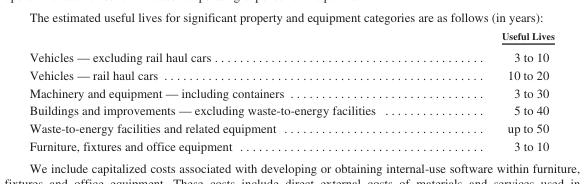table: (28, 29, 554, 152)
table column: (28, 29, 438, 152), (438, 29, 554, 152)
table column header: (28, 29, 554, 45)
table row: (28, 45, 554, 65), (28, 65, 554, 83), (28, 83, 554, 101), (28, 118, 554, 136), (28, 101, 554, 118), (28, 29, 554, 45), (28, 136, 554, 152)
